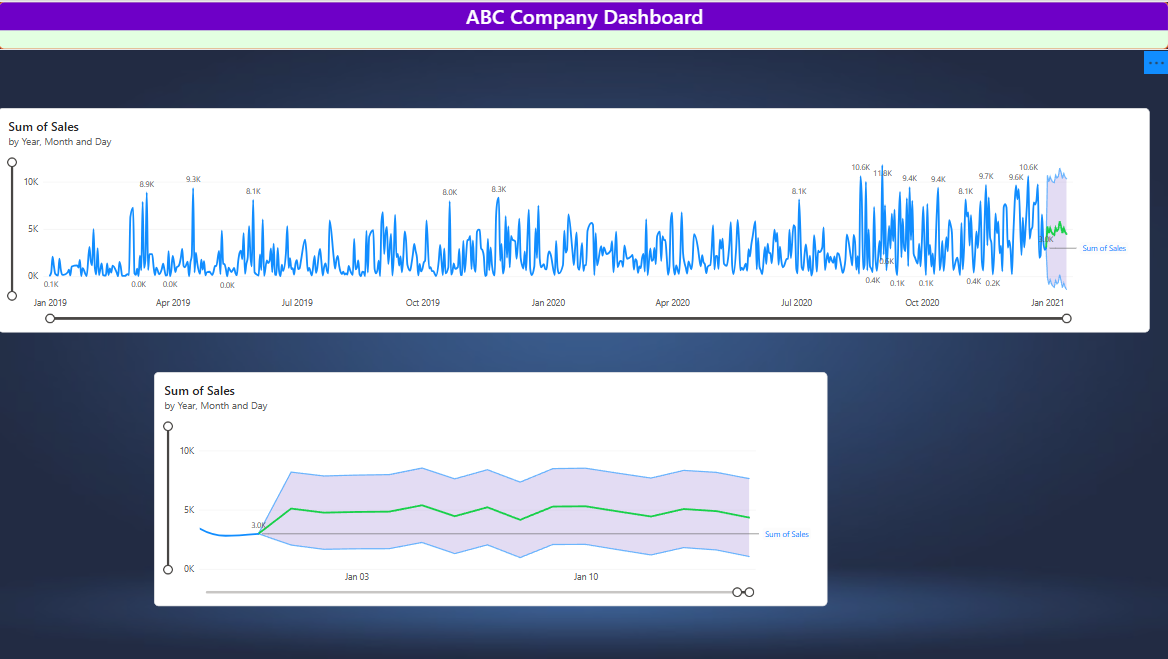

Layout of this report page (visuals, bound fields, positions):
{"tool":"powerbi","page":{"name":"Forcesting of ABC Company Dashboard","canvas":[1920,1080],"ordinal":0},"visuals":[{"type":"textbox","title":"ABC Company Dashboard","box":[0,0,1920,80],"z":0},{"type":"lineChart","fields":{"Category":["Sheet1.Order Date.Variation.Date Hierarchy.Year","Sheet1.Order Date.Variation.Date Hierarchy.Month","Sheet1.Order Date.Variation.Date Hierarchy.Day"],"Y":["Sum(Sheet1.Sales)"]},"box":[0,176,1888,368],"z":1},{"type":"lineChart","fields":{"Category":["Sheet1.Order Date.Variation.Date Hierarchy.Year","Sheet1.Order Date.Variation.Date Hierarchy.Month","Sheet1.Order Date.Variation.Date Hierarchy.Day"],"Y":["Sum(Sheet1.Sales)"]},"box":[256,608,1104,384],"z":2}]}

Visuals, with their boxes in screenshot pixels (x1, y1, x2, y2), scaled from the page's 1920x1080 canvas onto the 1168x659 screenshot:
"ABC Company Dashboard" textbox: <bbox>0, 0, 1167, 49</bbox>
lineChart - Sheet1.Order Date.Variation.Date Hierarchy.Year x Sheet1.Order Date.Variation.Date Hierarchy.Month: <bbox>0, 107, 1149, 332</bbox>
lineChart - Sheet1.Order Date.Variation.Date Hierarchy.Year x Sheet1.Order Date.Variation.Date Hierarchy.Month: <bbox>156, 371, 827, 605</bbox>
